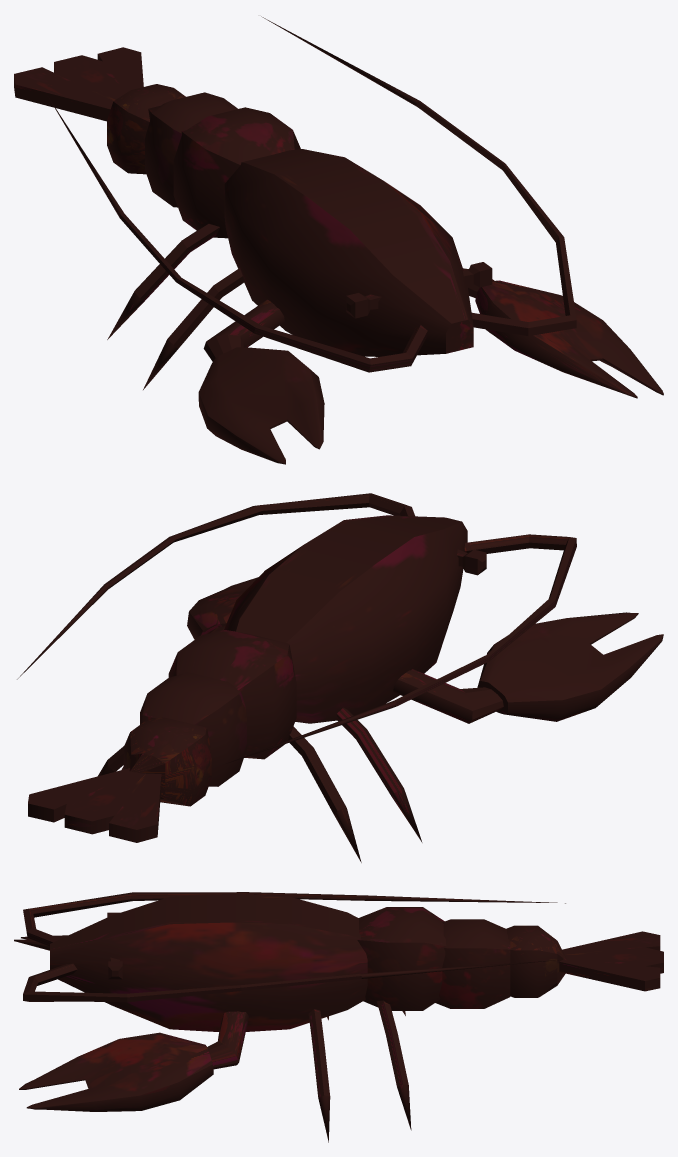
The model's file is Lobster-UV.fbx.
3 views of the same model, one above another, from view 1: azimuth 30°, elevation 25°; view 2: azimuth 150°, elevation 25°; view 3: azimuth 270°, elevation 25° (orthographic). The views are drawn at different scales.
Visible parts, largest first — view 1: pCube1, pCube17, pCube15, pCube2, pCylinder5, pCylinder6, pCube4, pCube6, pCube8, pCylinder8, pCube16, pCylinder7 (+3 smaller); view 2: pCube1, pCube17, pCube2, pCube4, pCube6, pCylinder6, pCylinder5, pCube16, pCube7, pCube8, pCube9, pCylinder7 (+3 smaller); view 3: pCube1, pCube15, pCube2, pCube4, pCylinder5, pCube6, pCylinder6, pCube9, pCube14, pCylinder1, pCylinder2, pCube7 (+1 smaller).
Boxes of the visible parts, x1,y1,x2,y2 form: pCube1: (224, 149, 473, 356); pCube17: (198, 347, 324, 464); pCube15: (475, 280, 663, 398); pCube2: (173, 107, 300, 238); pCylinder5: (261, 16, 576, 336); pCylinder6: (49, 98, 427, 372); pCube4: (145, 92, 237, 207); pCube6: (107, 84, 185, 174); pCube8: (14, 67, 113, 121); pCylinder8: (107, 224, 219, 339); pCube16: (203, 299, 284, 361); pCylinder7: (143, 268, 244, 389); pCube1: (224, 515, 467, 723); pCube17: (477, 612, 663, 721); pCube2: (168, 630, 296, 759); pCube4: (140, 672, 246, 786); pCube6: (123, 717, 211, 806); pCylinder6: (226, 534, 576, 763); pCylinder5: (17, 493, 414, 679); pCube16: (393, 669, 503, 723); pCube7: (64, 772, 147, 834); pCube8: (109, 773, 161, 842); pCube9: (28, 768, 135, 822); pCylinder7: (336, 707, 422, 842); pCube1: (50, 893, 367, 1031); pCube15: (19, 1032, 213, 1111); pCube2: (357, 907, 446, 1010); pCube4: (435, 919, 510, 1008); pCylinder5: (23, 960, 558, 1002); pCube6: (506, 925, 566, 997); pCylinder6: (23, 892, 565, 946); pCube9: (559, 958, 660, 991); pCube14: (207, 1011, 248, 1069); pCylinder1: (308, 1009, 330, 1142); pCylinder2: (376, 1000, 411, 1130); pCube7: (565, 947, 663, 973).
Size of the model in its own units: 3.58 by 1.82 by 6.25.
